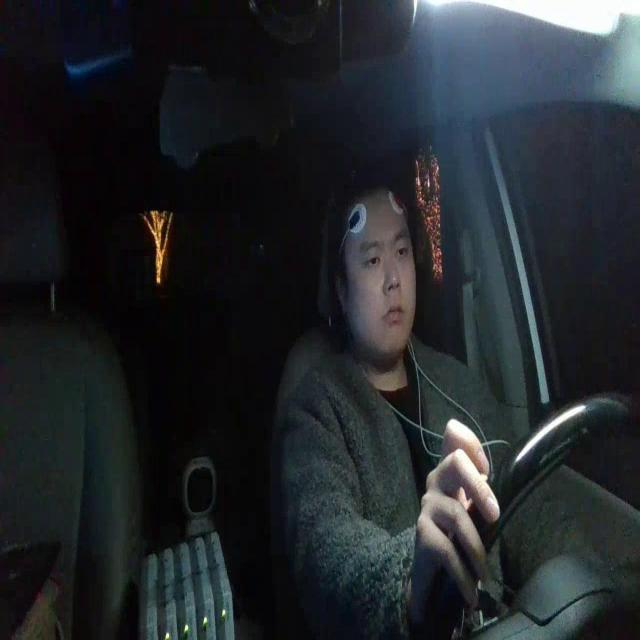Attentive: (328, 171, 418, 360)
